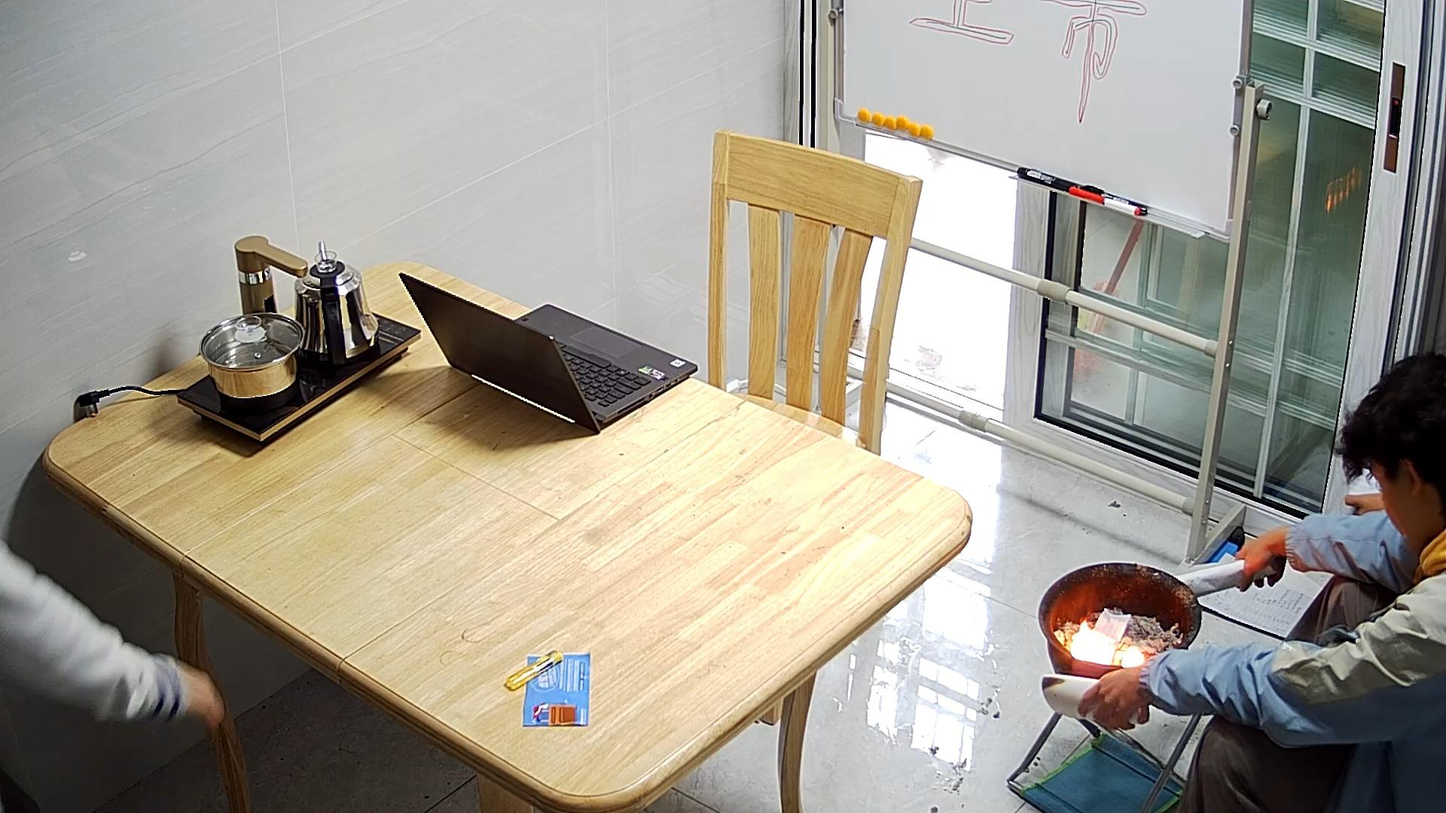fire: (1053, 621, 1147, 667)
